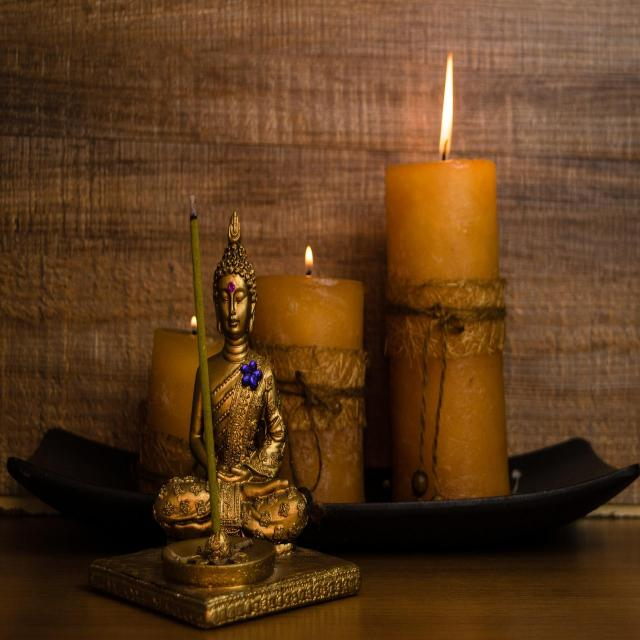Fire_Save: (383, 51, 512, 501), (252, 244, 367, 504)
